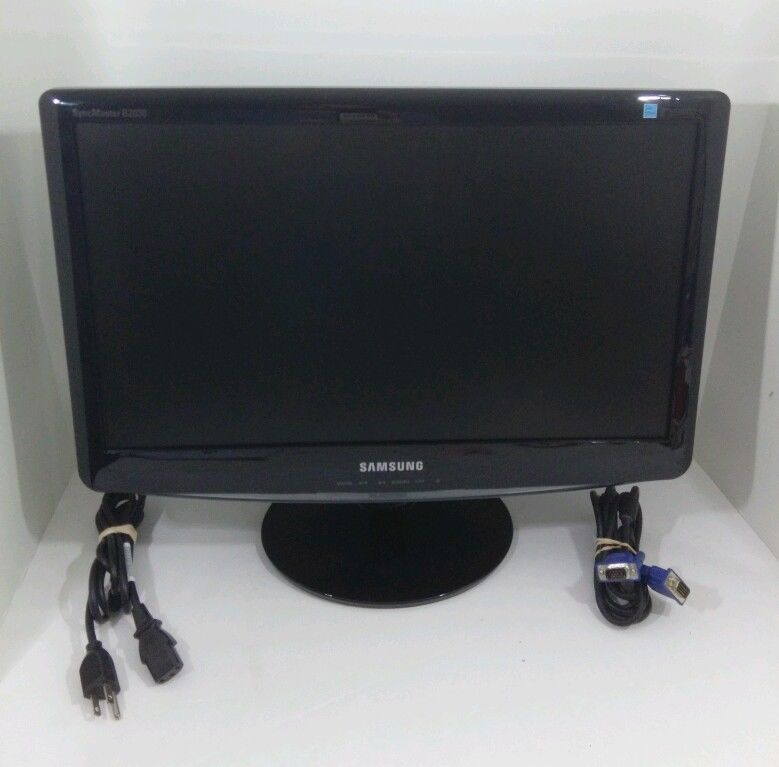samsung-monitor-b2030: (45, 89, 743, 605)
